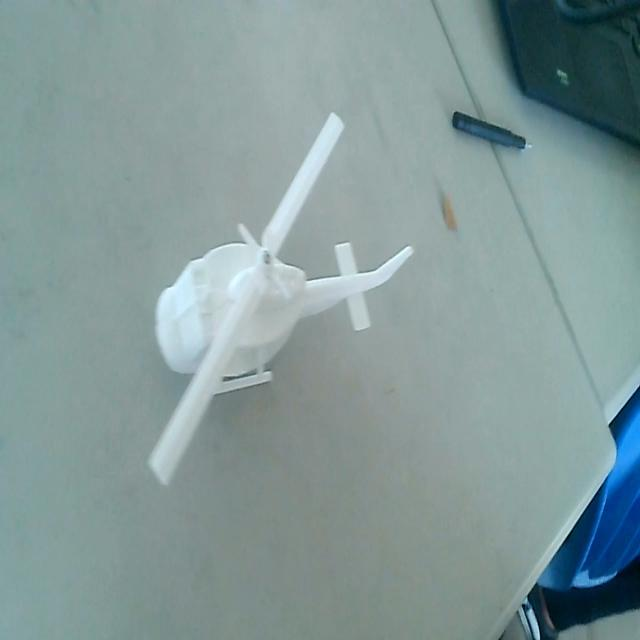Helicopter: (140, 108, 416, 482)
